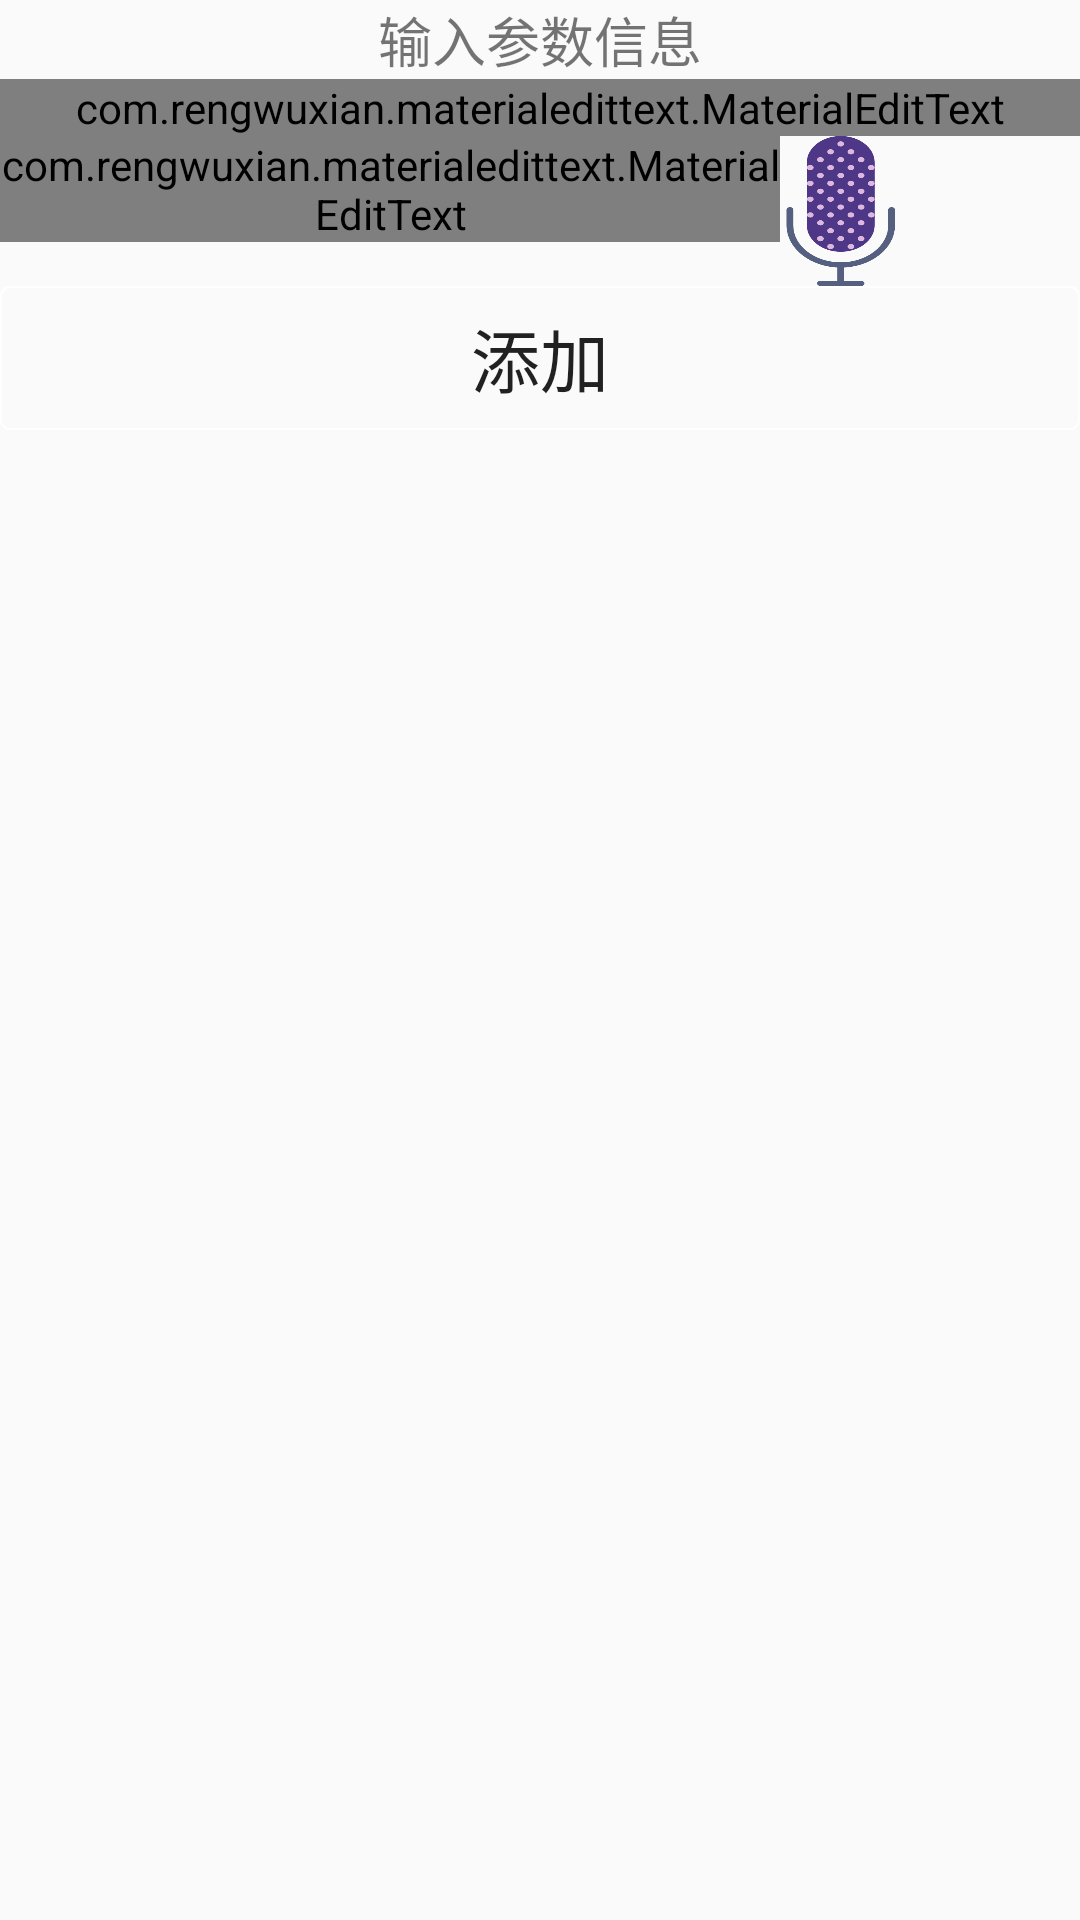

Point at icon controls on the screen. Image size 1080x1920, points as [x,y].
microphone: [840,211]
